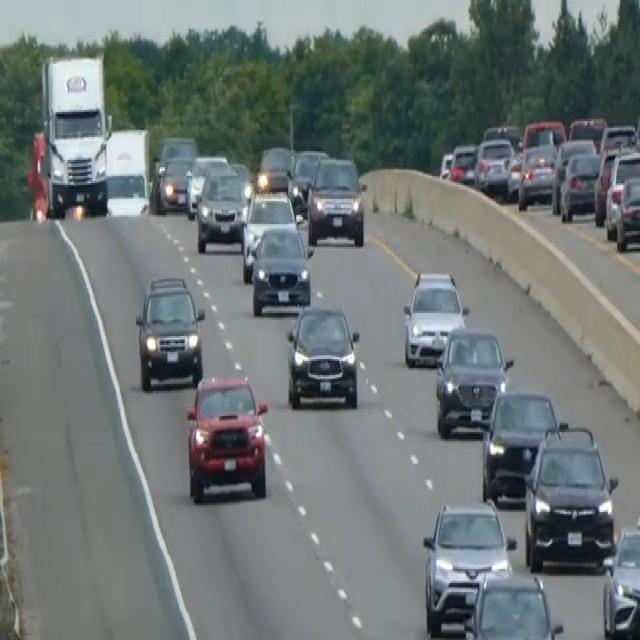car: (523, 420, 618, 572), (421, 494, 516, 636), (185, 370, 269, 503), (480, 387, 559, 505), (434, 323, 513, 438), (134, 272, 205, 391), (285, 300, 360, 410), (462, 569, 564, 638), (402, 267, 468, 368), (250, 220, 312, 314), (306, 153, 366, 247), (239, 187, 298, 281), (194, 165, 248, 252), (601, 516, 639, 638), (604, 148, 639, 240), (559, 150, 603, 222), (184, 151, 228, 219), (516, 140, 558, 210), (288, 146, 329, 213), (473, 135, 515, 196), (157, 153, 194, 211), (256, 144, 295, 194), (615, 170, 639, 250), (521, 117, 566, 151), (567, 114, 607, 151), (599, 121, 637, 155), (448, 141, 477, 183), (438, 150, 453, 180)
lorry: (37, 52, 113, 218)
